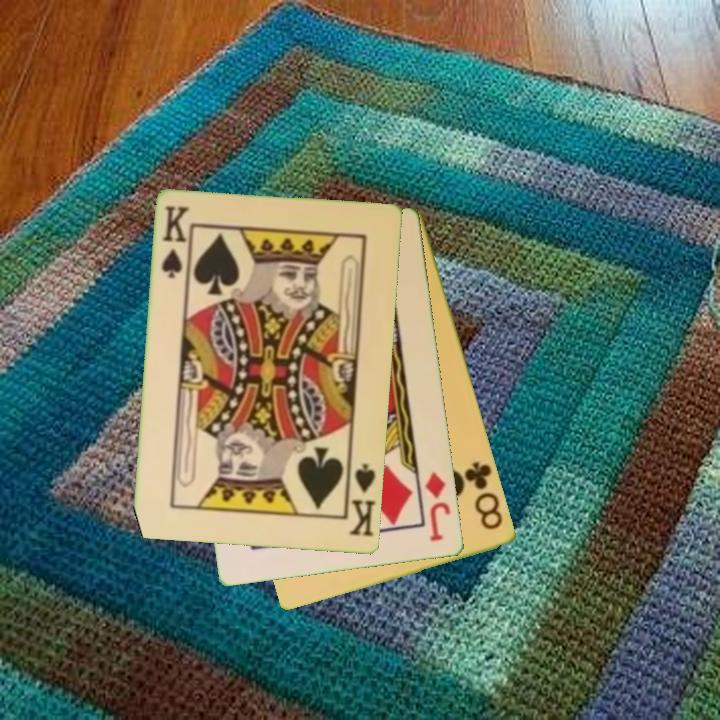8c: (461, 458, 507, 533)
Jd: (422, 468, 454, 545)
Ks: (346, 460, 379, 540), (159, 203, 192, 282)
